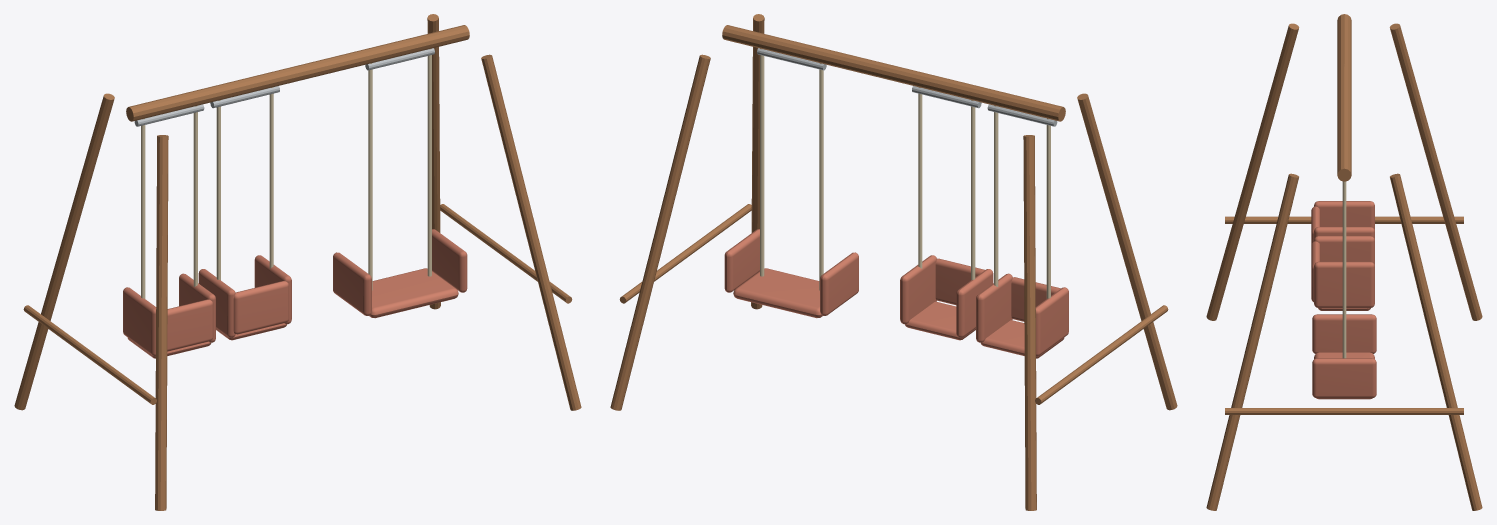
File: kids_swing_c.glb
3 renders of one model, left to right at view 1: azimuth 30°, elevation 25°; view 2: azimuth 150°, elevation 25°; view 3: azimuth 270°, elevation 25°, orthographic. The views are drawn at different scales.
Parts seen in each view (by area): view 1: Tint, Top beam.002, A-frame leg.004, A-frame leg.006, A-frame leg.005, Baby swing front.001, Baby swing front, A-frame leg.007, A-frame spreader.002, A-frame spreader.003, Glider rope.001, Glider rope (+4 smaller); view 2: Tint, Top beam.002, A-frame leg.005, A-frame leg.007, A-frame leg.004, A-frame leg.006, Baby swing front.001, A-frame spreader.002, A-frame spreader.003, Glider rope.001, Glider rope, Baby swing front (+4 smaller); view 3: Tint, A-frame leg.006, A-frame leg.007, A-frame leg.004, A-frame leg.005, Top beam.002, A-frame spreader.003, A-frame spreader.002, Glider rope.001, Baby swing front.001.
Boxes of the visible parts, x1,y1,x2,y2 form: Tint: (123,229,467,358); Top beam.002: (126,25,469,121); A-frame leg.004: (155,135,168,510); A-frame leg.006: (481,54,581,410); A-frame leg.005: (14,93,114,410); Baby swing front.001: (233,281,288,334); Baby swing front: (167,299,213,351); A-frame leg.007: (427,14,440,309); A-frame spreader.002: (23,305,156,404); A-frame spreader.003: (440,204,572,303); Glider rope.001: (427,48,431,276); Glider rope: (368,63,372,290); Tint: (724,229,1068,358); Top beam.002: (722,25,1065,121); A-frame leg.005: (1023,135,1036,510); A-frame leg.007: (610,54,710,410); A-frame leg.004: (1077,93,1177,410); A-frame leg.006: (751,14,764,309); Baby swing front.001: (935,258,984,304); A-frame spreader.002: (1035,305,1168,404); A-frame spreader.003: (619,204,751,303); Glider rope.001: (760,48,764,276); Glider rope: (819,63,823,290); Baby swing front: (1011,277,1060,321); Tint: (1312,201,1376,399); A-frame leg.006: (1206,173,1298,510); A-frame leg.007: (1390,173,1482,510); A-frame leg.004: (1206,23,1299,320); A-frame leg.005: (1389,23,1482,320); Top beam.002: (1337,14,1351,181); A-frame spreader.003: (1225,408,1463,414); A-frame spreader.002: (1225,216,1463,223); Glider rope.001: (1342,181,1346,358); Baby swing front.001: (1311,241,1320,302).
Bounding box in the file's own units: 2.58 × 1.99 × 1.54.
